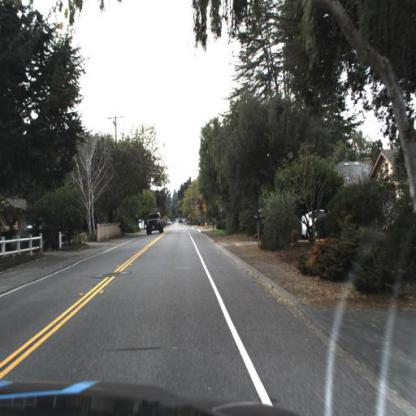car: (296, 199, 344, 244), (142, 210, 166, 240)
